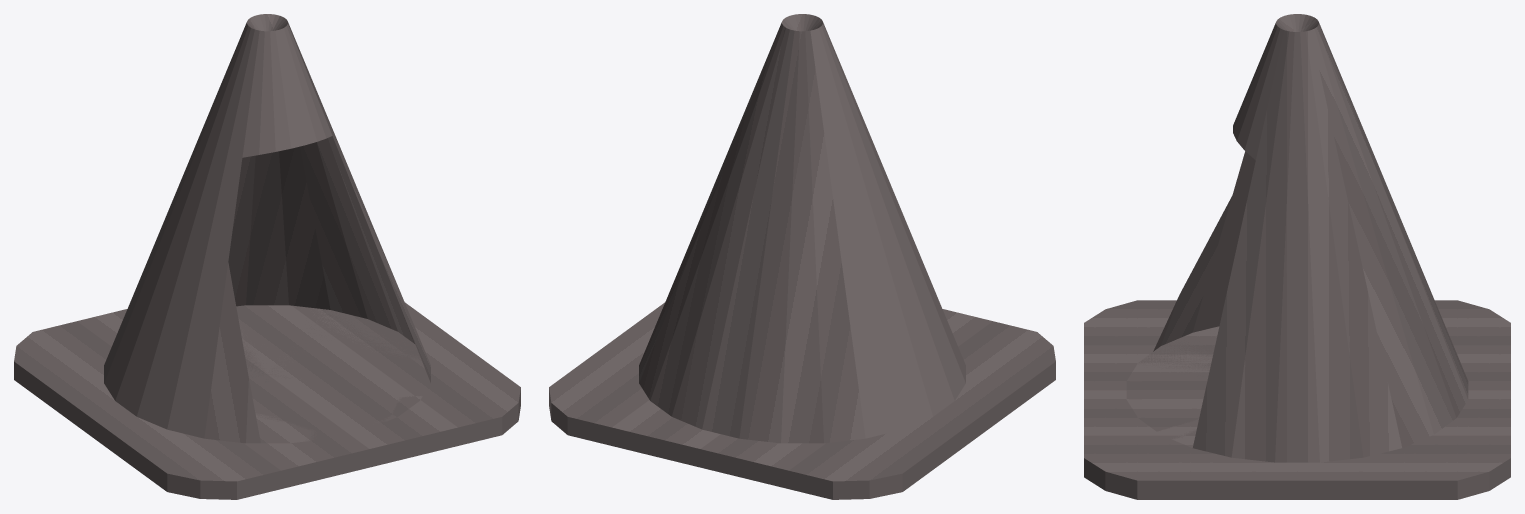
3 views of the same model, side by side, from view 1: azimuth 30°, elevation 25°; view 2: azimuth 150°, elevation 25°; view 3: azimuth 270°, elevation 25° (orthographic). The views are drawn at different scales.
Parts seen in each view (by area): view 1: cylinder, cuboid; view 2: cylinder, cuboid; view 3: cylinder, cuboid.
Part boxes in pixels (left/top/right/bottom): cylinder: left=104, top=14, right=430, bottom=443; cuboid: left=14, top=302, right=520, bottom=499; cylinder: left=639, top=14, right=965, bottom=443; cuboid: left=549, top=302, right=1055, bottom=499; cylinder: left=1126, top=14, right=1468, bottom=462; cuboid: left=1084, top=300, right=1510, bottom=499.
Size of the model in its own units: 1.25 by 1.25 by 1.25.
1 material, 1 textured.
